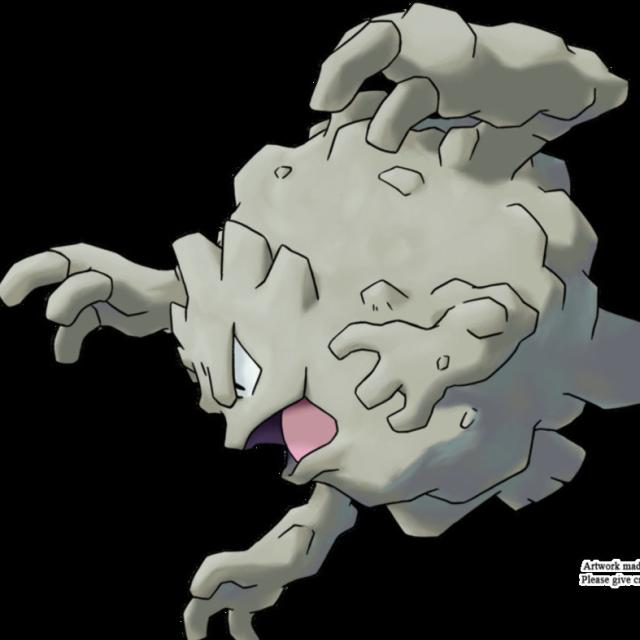Graveler: (134, 7, 640, 523)
